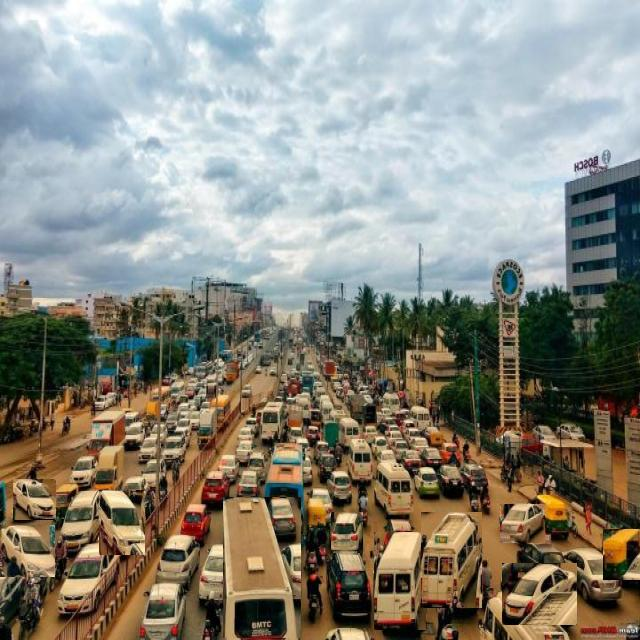autorickshaw: (603, 529, 640, 580), (535, 494, 569, 538)
bus: (223, 498, 300, 638), (421, 513, 481, 608), (374, 533, 426, 630), (374, 460, 412, 516), (348, 438, 372, 483)
car: (502, 563, 576, 625), (58, 543, 119, 613), (564, 548, 621, 602), (99, 490, 145, 555), (328, 552, 371, 618), (0, 526, 55, 577), (139, 582, 185, 640), (61, 490, 104, 552), (200, 544, 241, 604), (156, 535, 199, 587), (13, 479, 55, 520), (500, 505, 545, 543), (331, 512, 362, 553)
